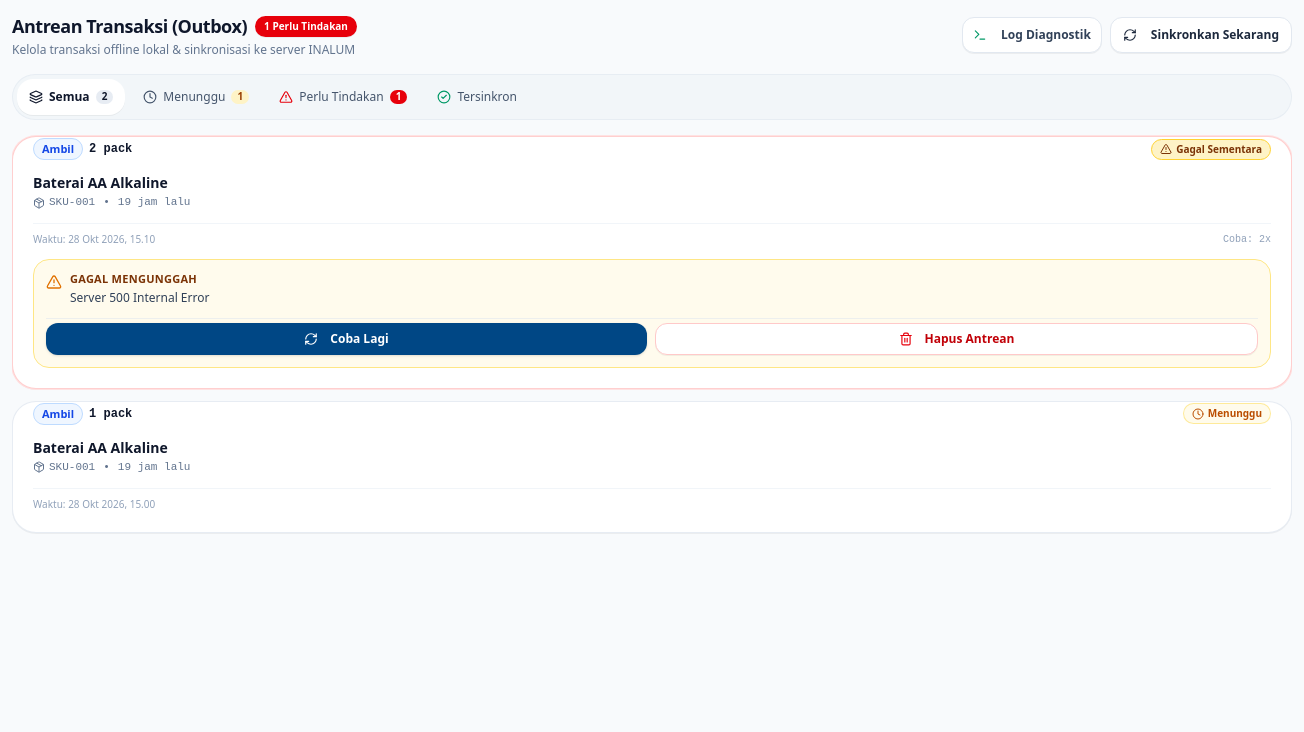
Test: OutboxQueueView Component & Actions Suite (Task P5.9) › switches tabs and filters outbox items appropriately
The image size is (1304, 732).
Expected: the element with test id "outbox-card-uuid-pending" is shown, [12, 401, 1292, 533]
# Pindah ke tab "Menunggu"
Click the tab with test id "tab-pending".
click(196, 97)  # box [131, 79, 261, 115]
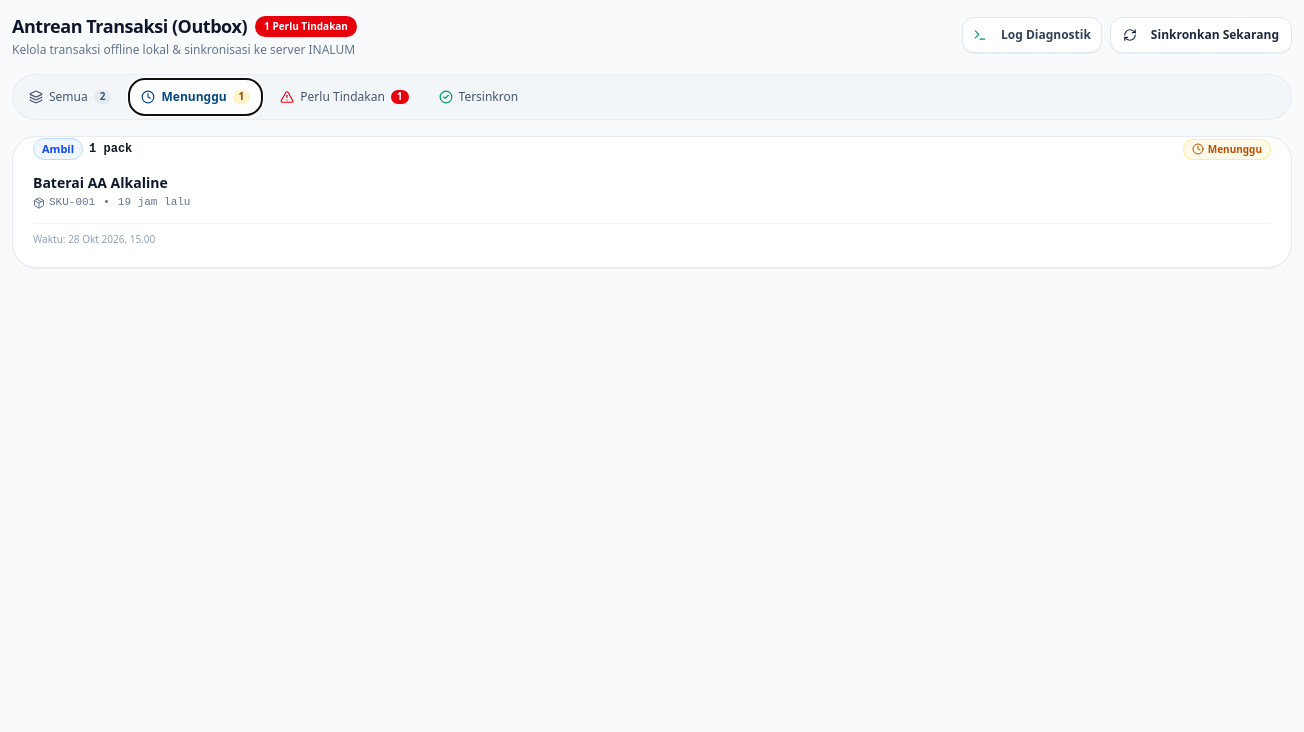
Expected: the element with test id "outbox-card-uuid-pending" is shown, [12, 136, 1292, 268]
Result: the element with test id "outbox-card-uuid-failed" is gone
# Pindah ke tab "Perlu Tindakan"
Click the tab with test id "tab-needs-action".
click(344, 97)  # box [268, 79, 420, 115]
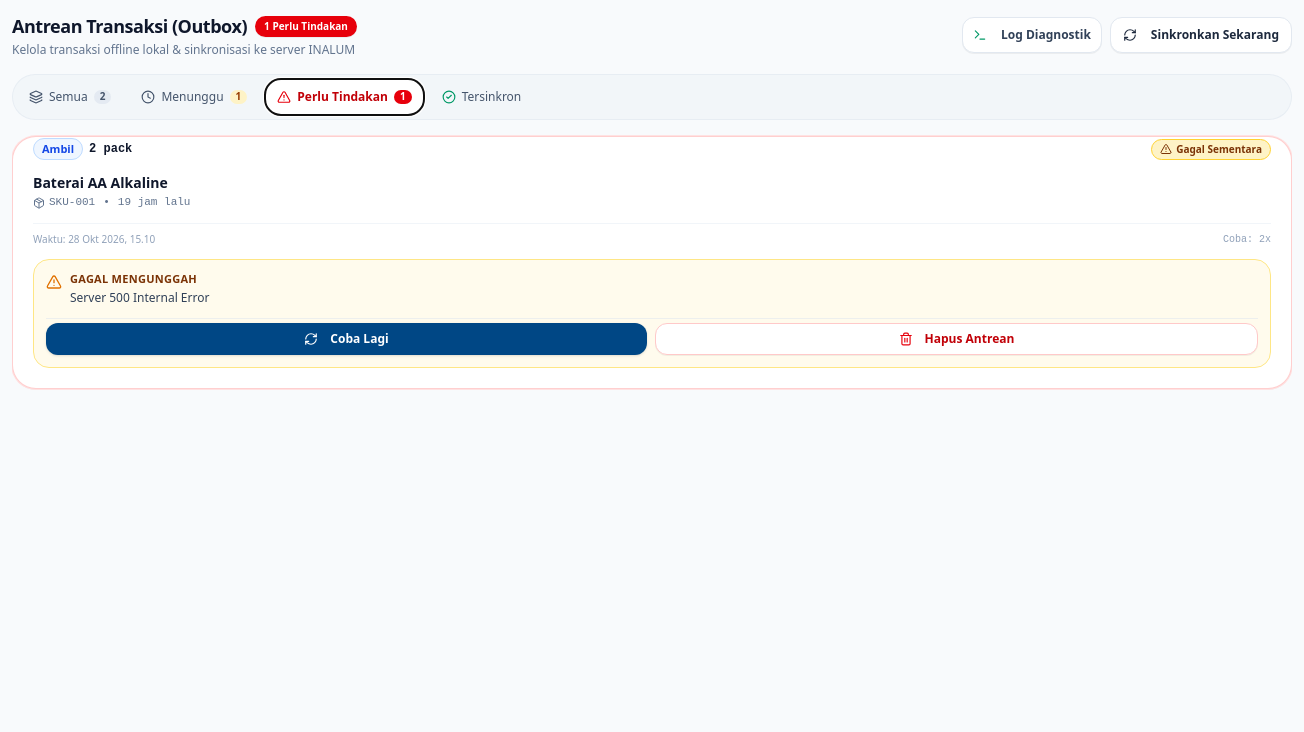
Result: the element with test id "outbox-card-uuid-pending" is gone
Result: the element with test id "outbox-card-uuid-failed" is shown at [12, 136, 1292, 389]
Result: the text "Server 500 Internal Error" is shown at [70, 289, 209, 306]
# Pindah ke tab "Tersinkron" (kosong)
Click the tab with test id "tab-synced".
click(482, 97)  # box [430, 79, 533, 115]
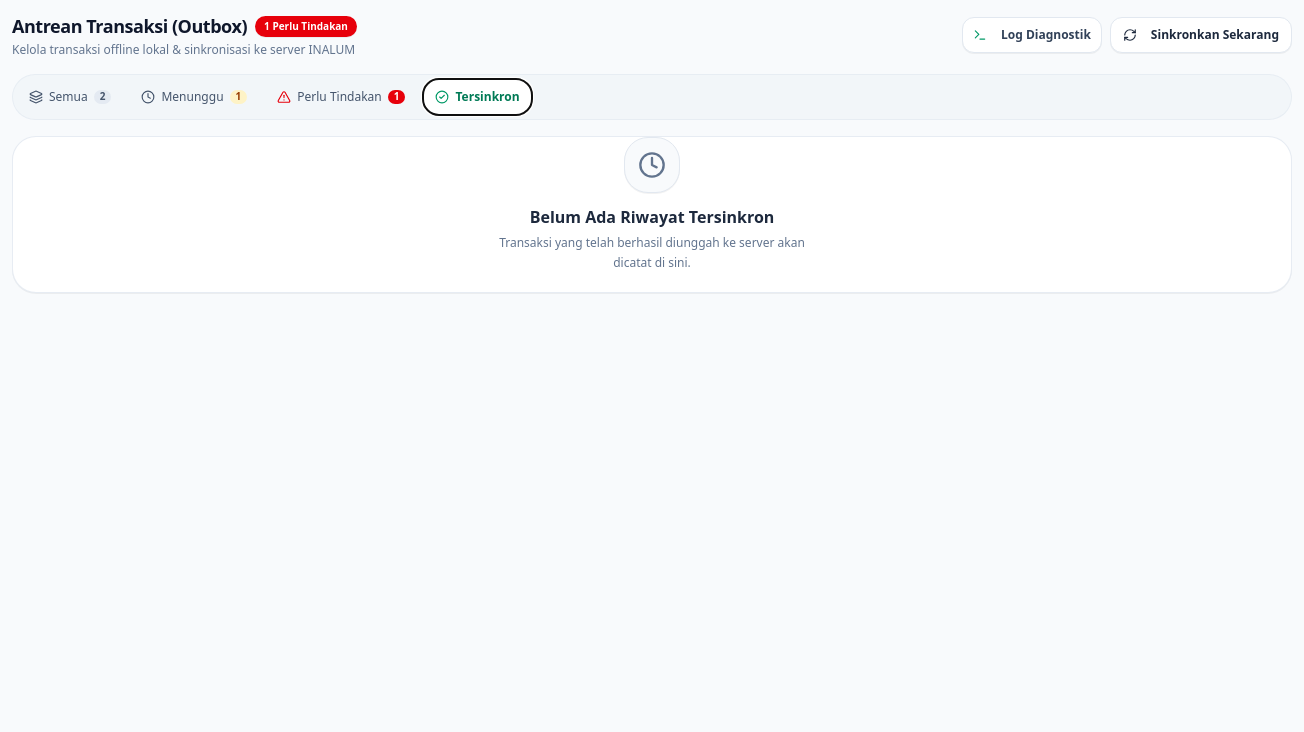
Result: the heading "Belum Ada Riwayat Tersinkron" is shown at [530, 205, 774, 229]
